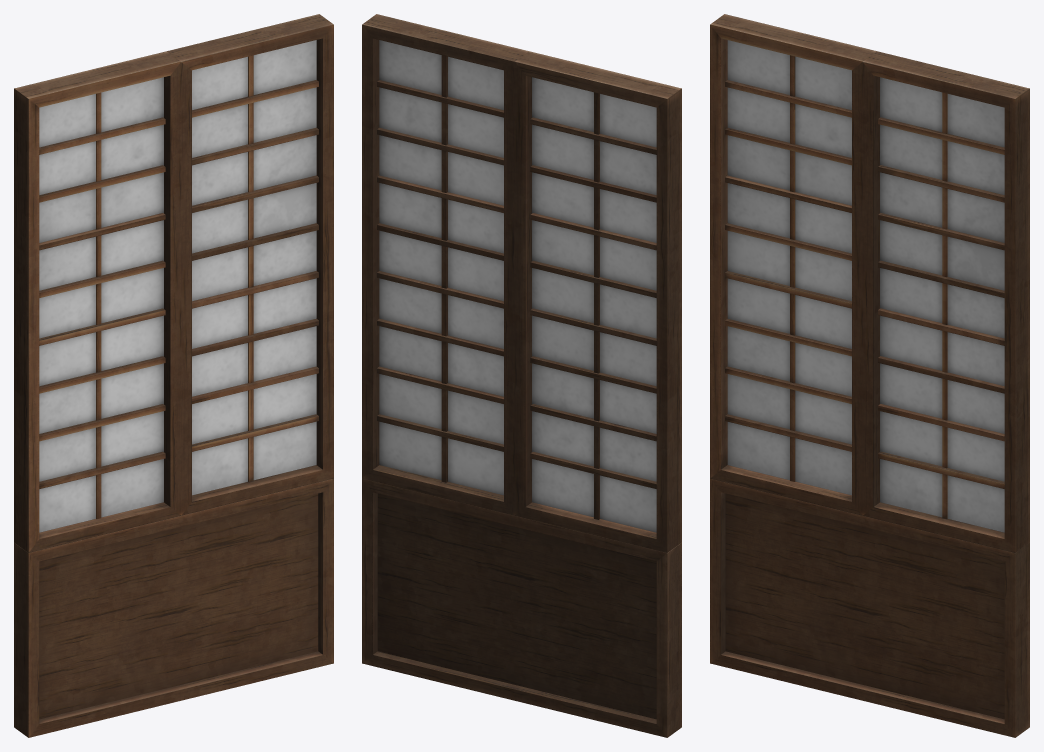
The model's file is Wall_A.fbx.
3 views of the same model, side by side, from view 1: azimuth 30°, elevation 25°; view 2: azimuth 150°, elevation 25°; view 3: azimuth 330°, elevation 25° (orthographic).
Parts seen in each view (by area): view 1: Wall_A; view 2: Wall_A; view 3: Wall_A.
Boxes of the visible parts, x1,y1,x2,y2 form: Wall_A: [14, 14, 333, 737]; Wall_A: [362, 14, 681, 737]; Wall_A: [710, 14, 1029, 737].
Bounding box in the file's own units: 200 × 400 × 16.36.
